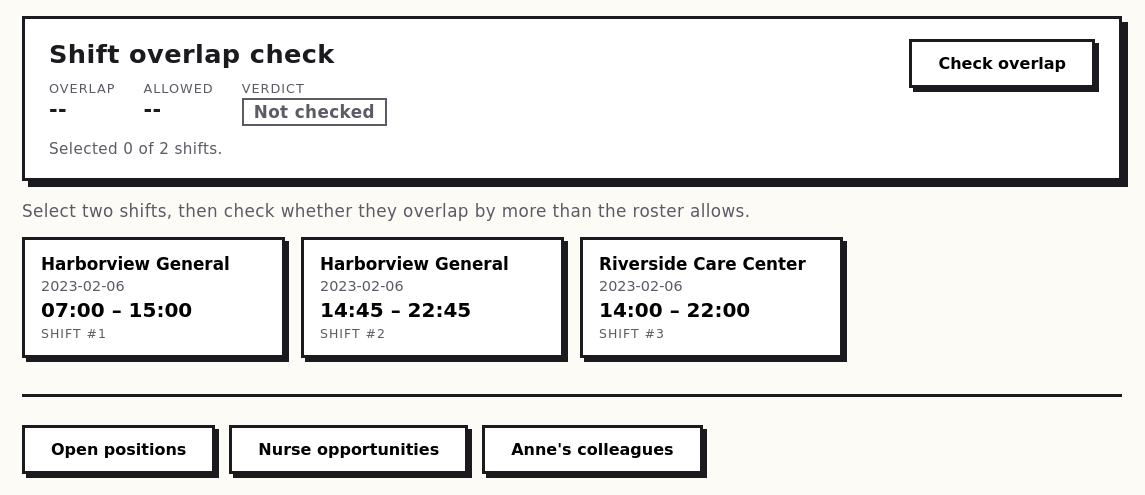
clicking a selected shift deselects it
The width and height of the screenshot is (1145, 495).
What coordinates should you click on to do the following:
click the text "Shift #1"
I would click on:
 (74, 334)
Its box is [41,326,107,341].
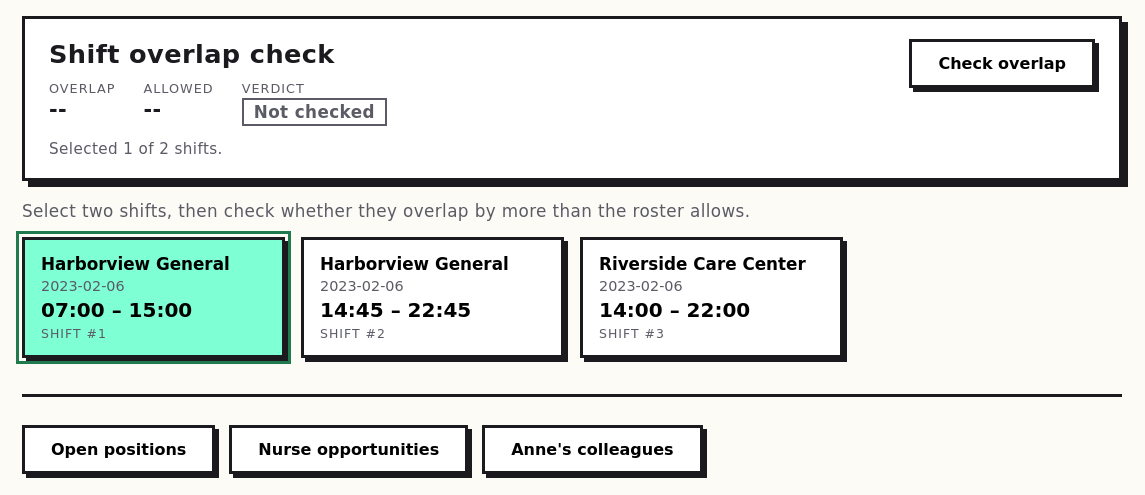
Result: the text "Selected 1 of 2 shifts." is shown at [49,140,223,158]
What coordinates should you click on to do the following:
click the text "Shift #1"
I would click on:
 (74, 334)
Its box is [41,326,107,341].
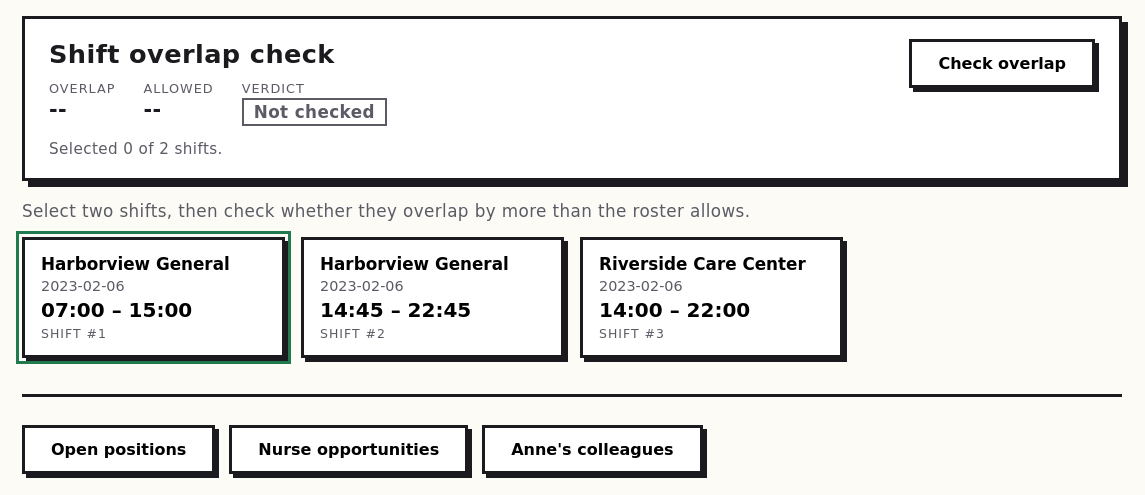
Result: the text "Selected 0 of 2 shifts." is shown at [49,140,223,158]
